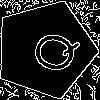Q: (20, 24, 82, 78)
